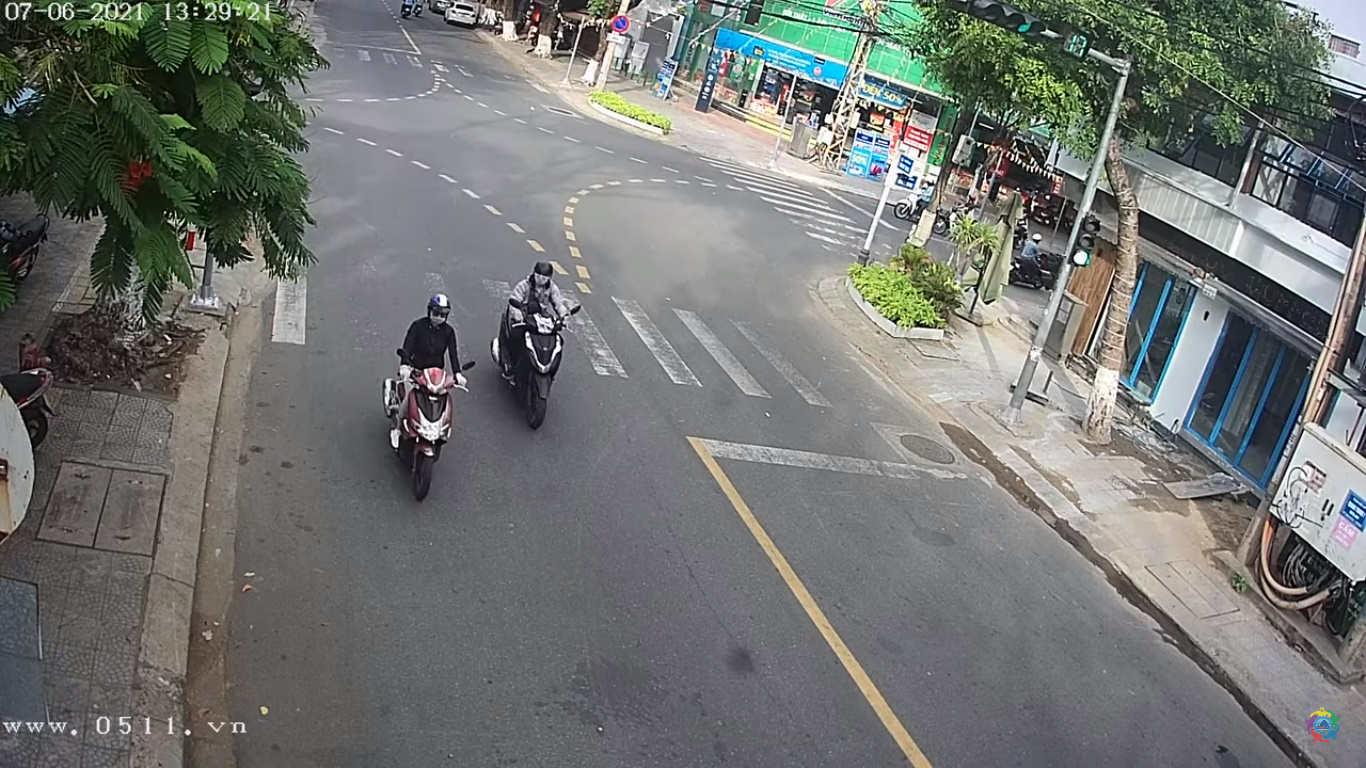motorbike: (388, 300, 464, 493), (488, 262, 576, 423)
